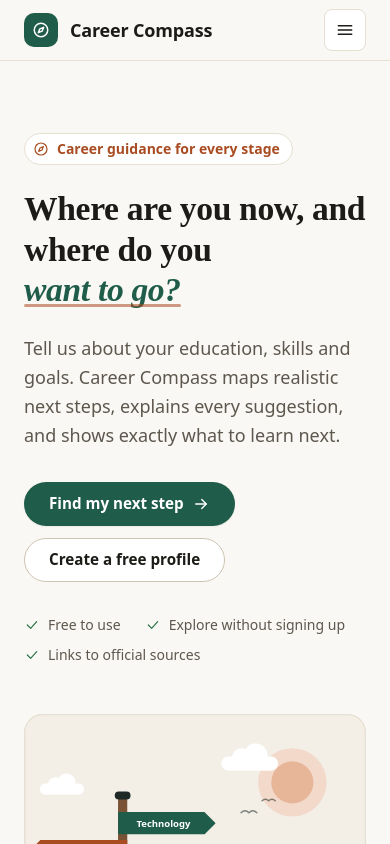
Scenario: Mobile menu › opens, closes with Escape, and closes after picking a link
Step 1. Click the button named "Open menu" → {"x": 345, "y": 30}, box x1=324 y1=9 x2=366 y2=51
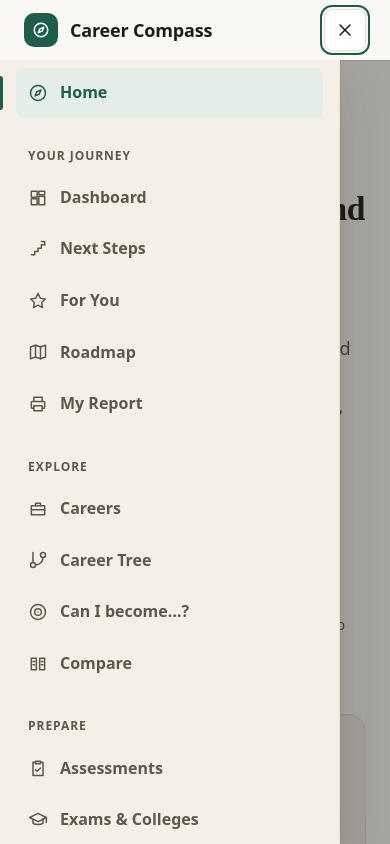
Now the button named "Open menu" is expanded, box x1=324 y1=9 x2=366 y2=51
Step 2. Press Escape
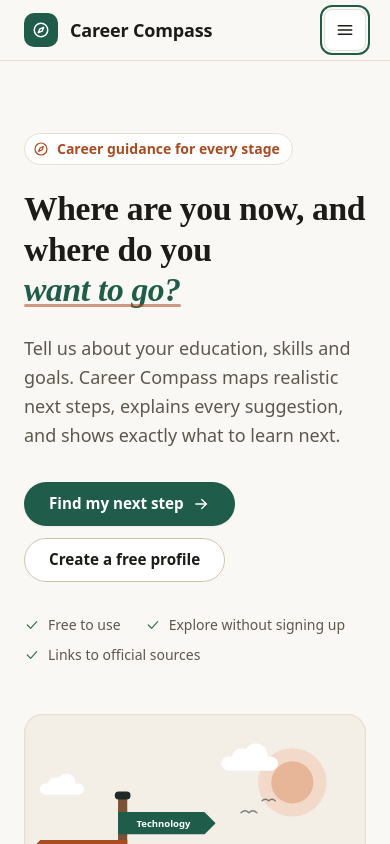
Now the button named "Open menu" is collapsed
Step 3. Click the button named "Open menu" → {"x": 345, "y": 30}, box x1=324 y1=9 x2=366 y2=51
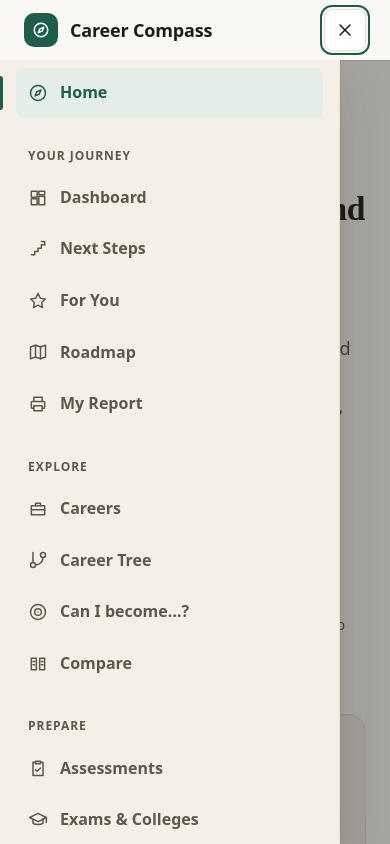
Step 4. Click the link "Roadmap" → {"x": 82, "y": 352}, box x1=28 y1=341 x2=136 y2=363
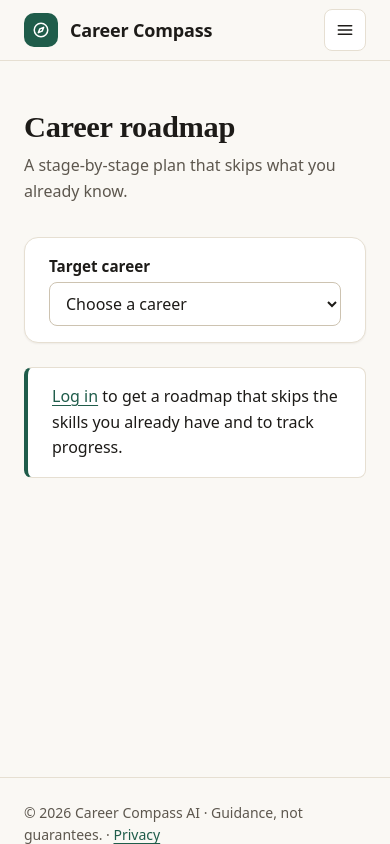
Now the button named "Open menu" is collapsed, box x1=324 y1=9 x2=366 y2=51
